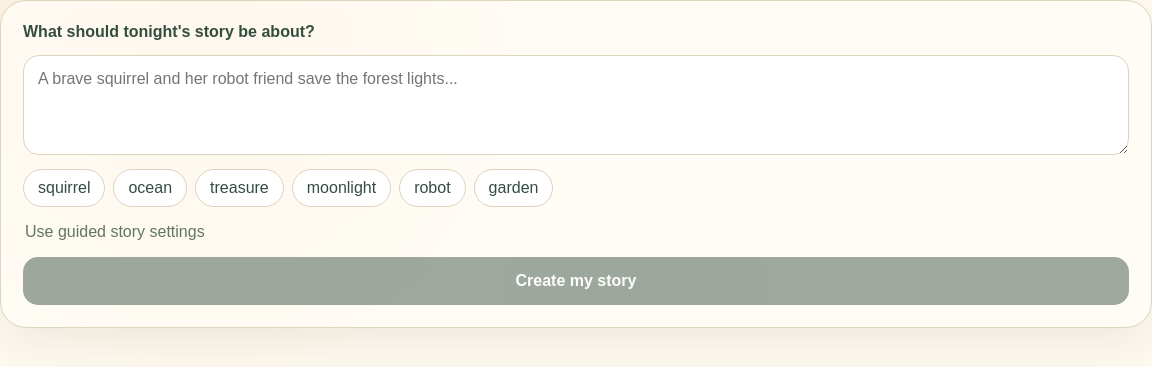
Scenario: PromptComposer › offers free text and keyword creation modes
Expected: the button "Create my story" is disabled, [23, 257, 1129, 305]
Click the button "ocean" at {"x": 150, "y": 188}, box [114, 169, 187, 207]
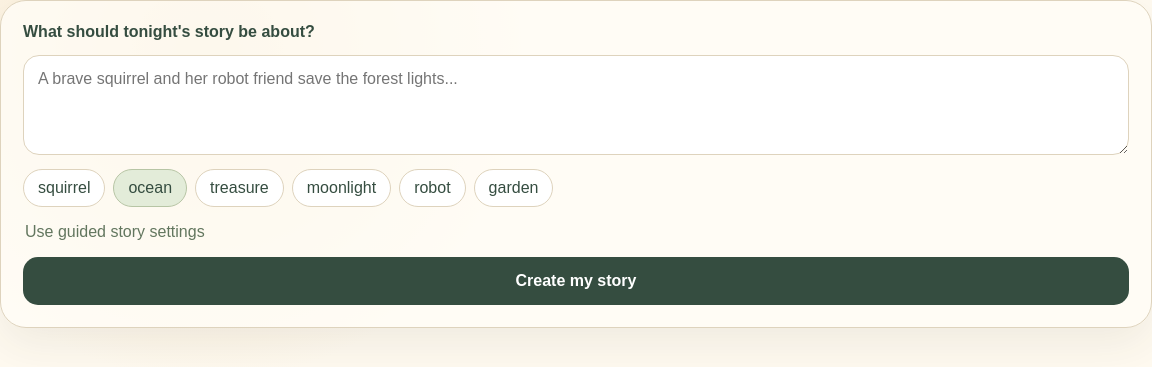
Now the button "Create my story" is enabled, box [23, 257, 1129, 305]
